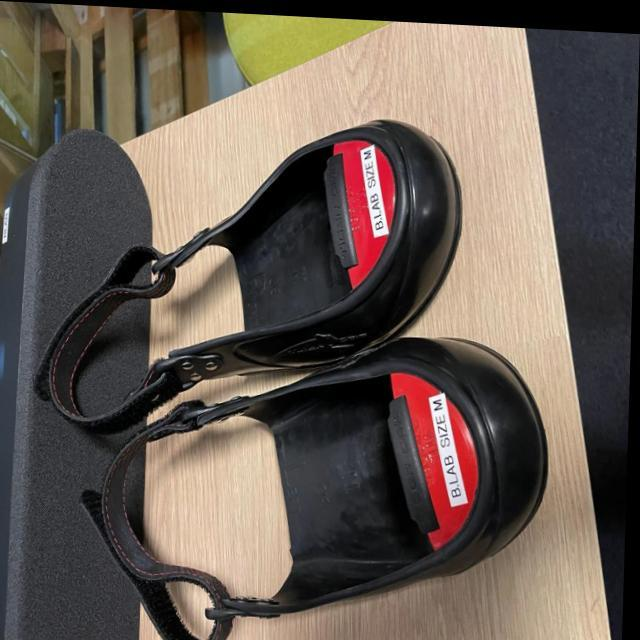shoes: (82, 330, 552, 640), (39, 119, 464, 438)
